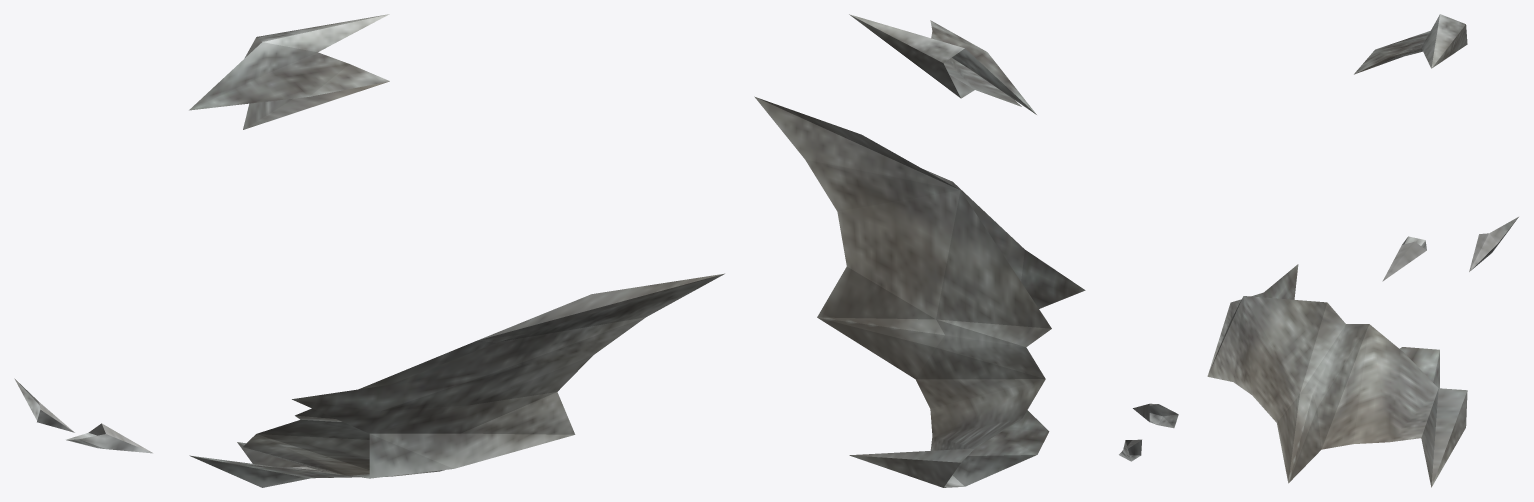
The picture shows the model from 3 angles, left to right: view 1: azimuth 30°, elevation 25°; view 2: azimuth 150°, elevation 25°; view 3: azimuth 270°, elevation 25°; orthographic projection. The views are drawn at different scales.
Parts seen in each view (by area): view 1: B_0021_1a_0; view 2: B_0021_1a_0; view 3: B_0021_1a_0.
Boxes of the visible parts, x1,y1,x2,y2 form: B_0021_1a_0: (14,14,724,487); B_0021_1a_0: (754,14,1178,487); B_0021_1a_0: (1207,14,1518,487).
Bounding box in the file's own units: 7.32 × 5.76 × 3.89.
1 material, 1 textured.
